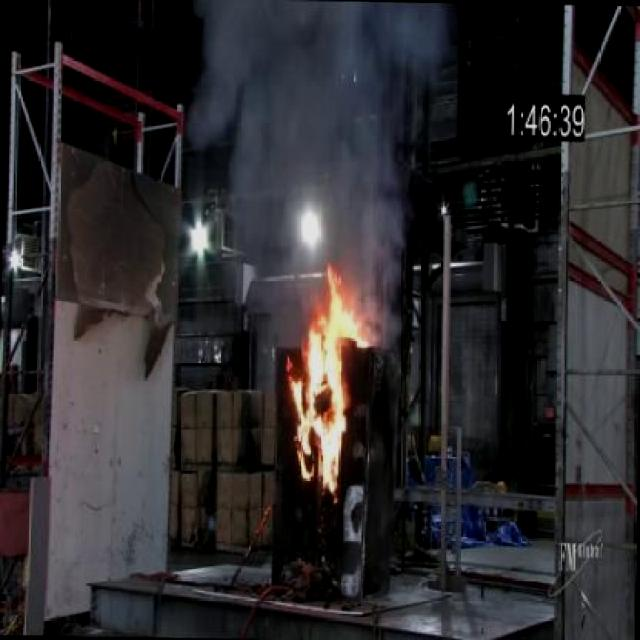fire: (282, 267, 374, 478)
smoke: (207, 3, 398, 255)
